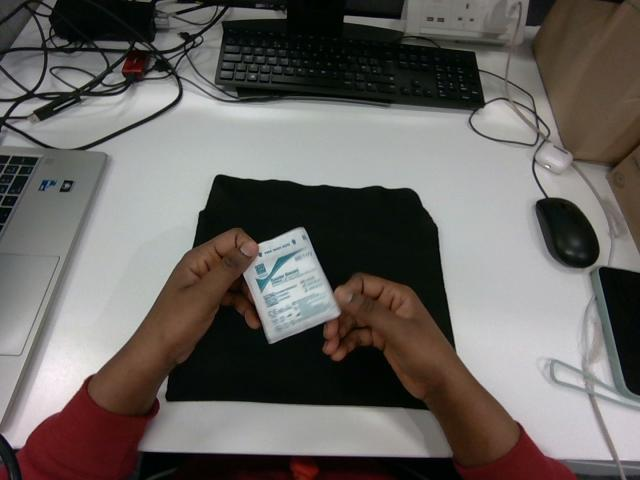gauze: (244, 227, 340, 344)
